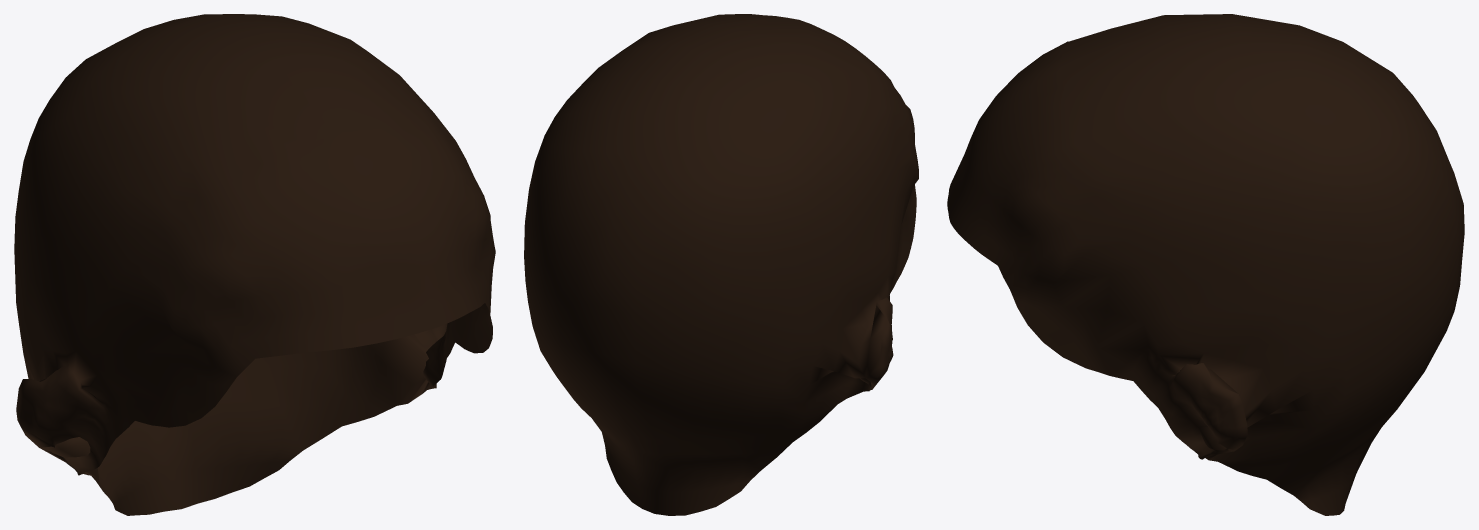
Rendered from hair_fringe_white.glb.
3 renders of one model, left to right at view 1: azimuth 30°, elevation 25°; view 2: azimuth 150°, elevation 25°; view 3: azimuth 270°, elevation 25°, orthographic. The views are drawn at different scales.
Visible parts, largest first — view 1: hair_fringe_white; view 2: hair_fringe_white; view 3: hair_fringe_white.
Boxes of the visible parts, <box> form: hair_fringe_white: <box>14,14,495,515</box>; hair_fringe_white: <box>524,14,918,515</box>; hair_fringe_white: <box>947,14,1464,515</box>.
Size of the model in its own units: 0.1968 by 0.2243 by 0.2249.
